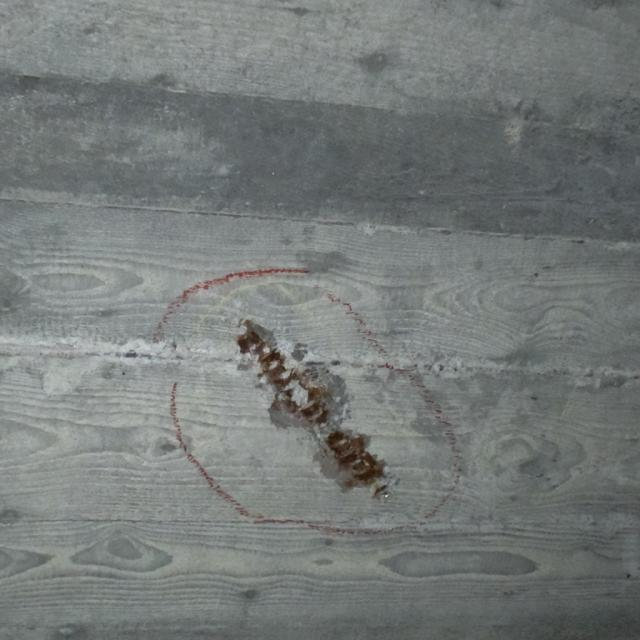D10: (234, 318, 401, 501)
